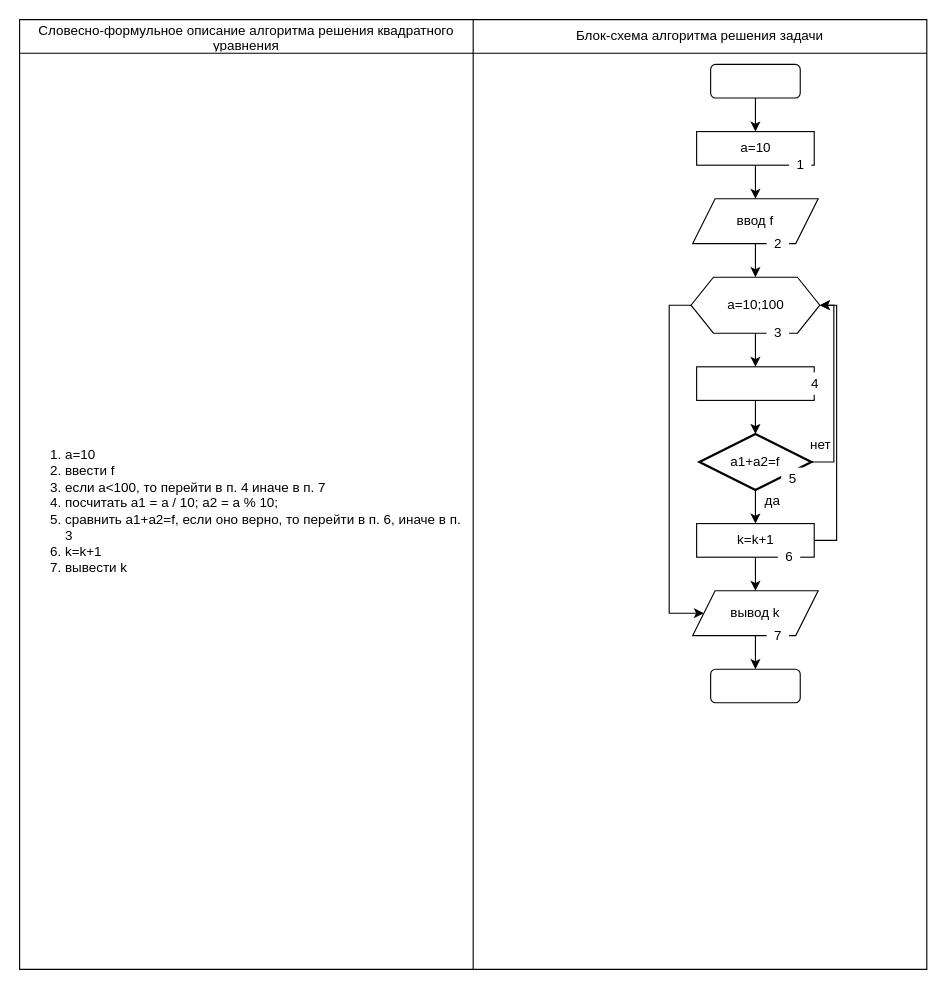
The diagram is 946 pixels wide and 989 high, and some of its shapes have lost their labels. The shapes that lost their labels are listed below. From the top down, each one's centre as x and y in pixels, then its label:
At pixel 755 80: "начало".
At pixel 755 383: "a1 = a / 10; a2 = a % 10;".
At pixel 755 685: "конец".
